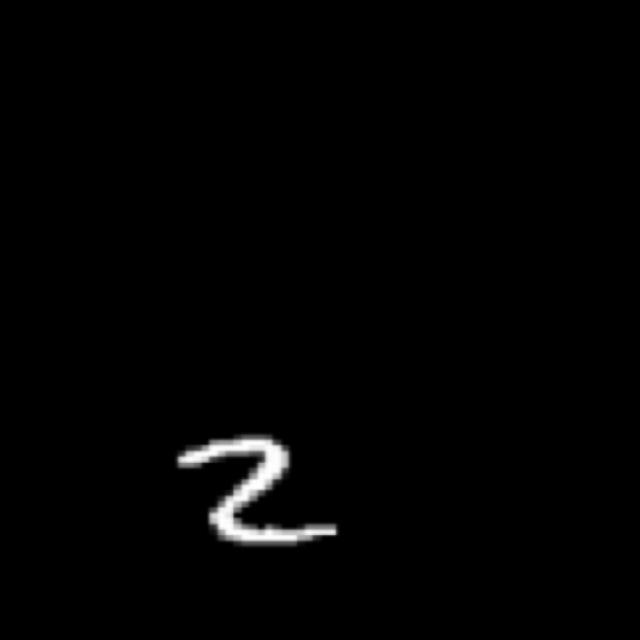two -2-: (178, 422, 341, 560)
